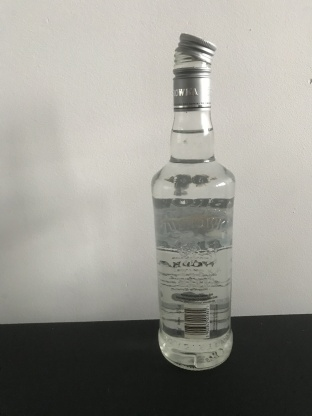nakretka: (171, 29, 217, 111)
